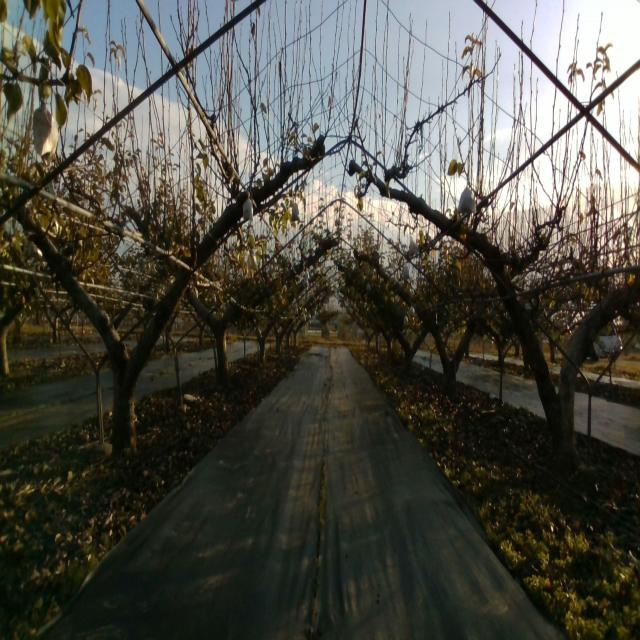pearbags: (33, 105, 59, 170), (456, 185, 478, 216), (242, 193, 254, 222), (290, 200, 302, 222), (408, 236, 419, 258)
